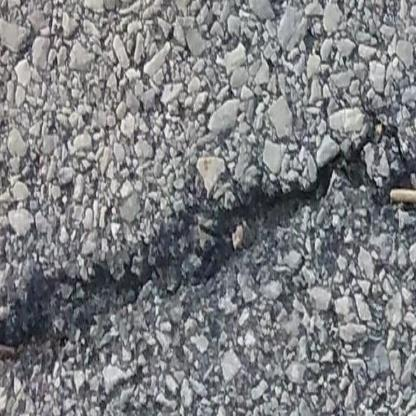Cracks: (0, 115, 416, 384)
